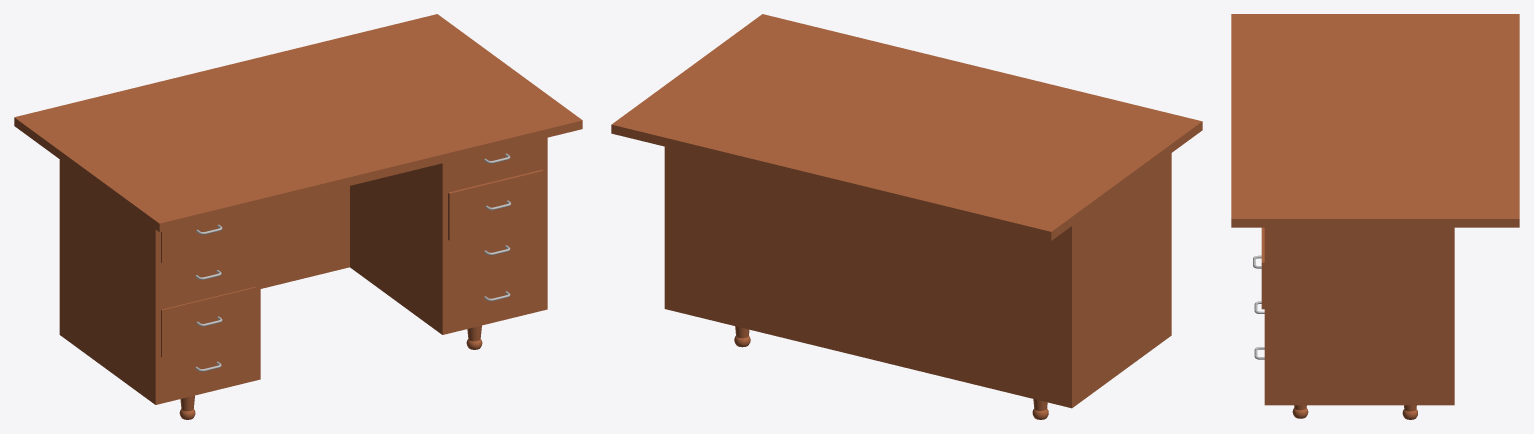
Rendered from desk 2.fbx.
The picture shows the model from 3 angles, left to right: view 1: azimuth 30°, elevation 25°; view 2: azimuth 150°, elevation 25°; view 3: azimuth 270°, elevation 25°; orthographic projection. The views are drawn at different scales.
Visible parts, largest first — view 1: Group7, Group4, Group9, Group3, Group11, Group6, Group2, Group8, Group10, Group5; view 2: Group7, Group2, Group4; view 3: Group7, Group10, Group2, Group8.
Boxes of the visible parts, x1=… form: Group7: x1=14, y1=14, x2=582, y2=232; Group4: x1=63, y1=162, x2=160, y2=404; Group9: x1=350, y1=162, x2=447, y2=334; Group3: x1=161, y1=209, x2=255, y2=357; Group11: x1=448, y1=139, x2=541, y2=333; Group6: x1=161, y1=240, x2=255, y2=403; Group2: x1=59, y1=159, x2=349, y2=336; Group8: x1=448, y1=139, x2=543, y2=286; Group10: x1=542, y1=137, x2=547, y2=310; Group5: x1=255, y1=207, x2=260, y2=380; Group7: x1=611, y1=14, x2=1202, y2=240; Group2: x1=664, y1=146, x2=1075, y2=408; Group4: x1=1075, y1=153, x2=1171, y2=405; Group7: x1=1231, y1=14, x2=1519, y2=227; Group10: x1=1264, y1=227, x2=1448, y2=405; Group2: x1=1448, y1=227, x2=1454, y2=405; Group8: x1=1261, y1=227, x2=1264, y2=309.
Size of the model in its own units: 1530 by 810 by 910.
